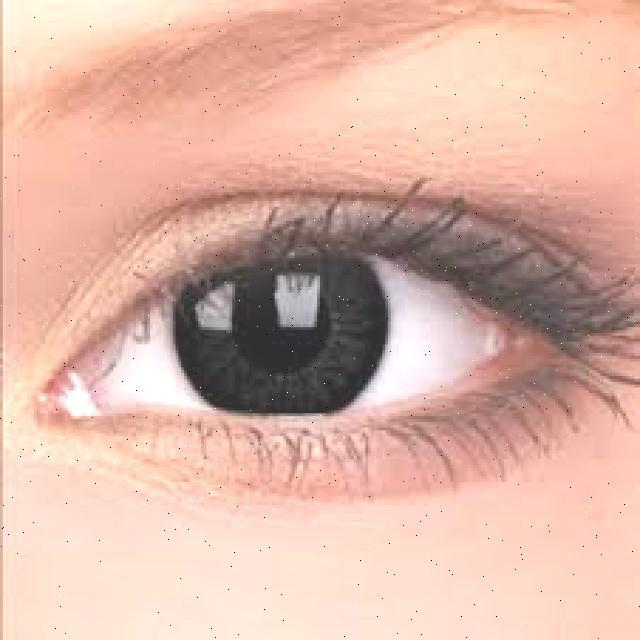Normal: (28, 172, 637, 505)
